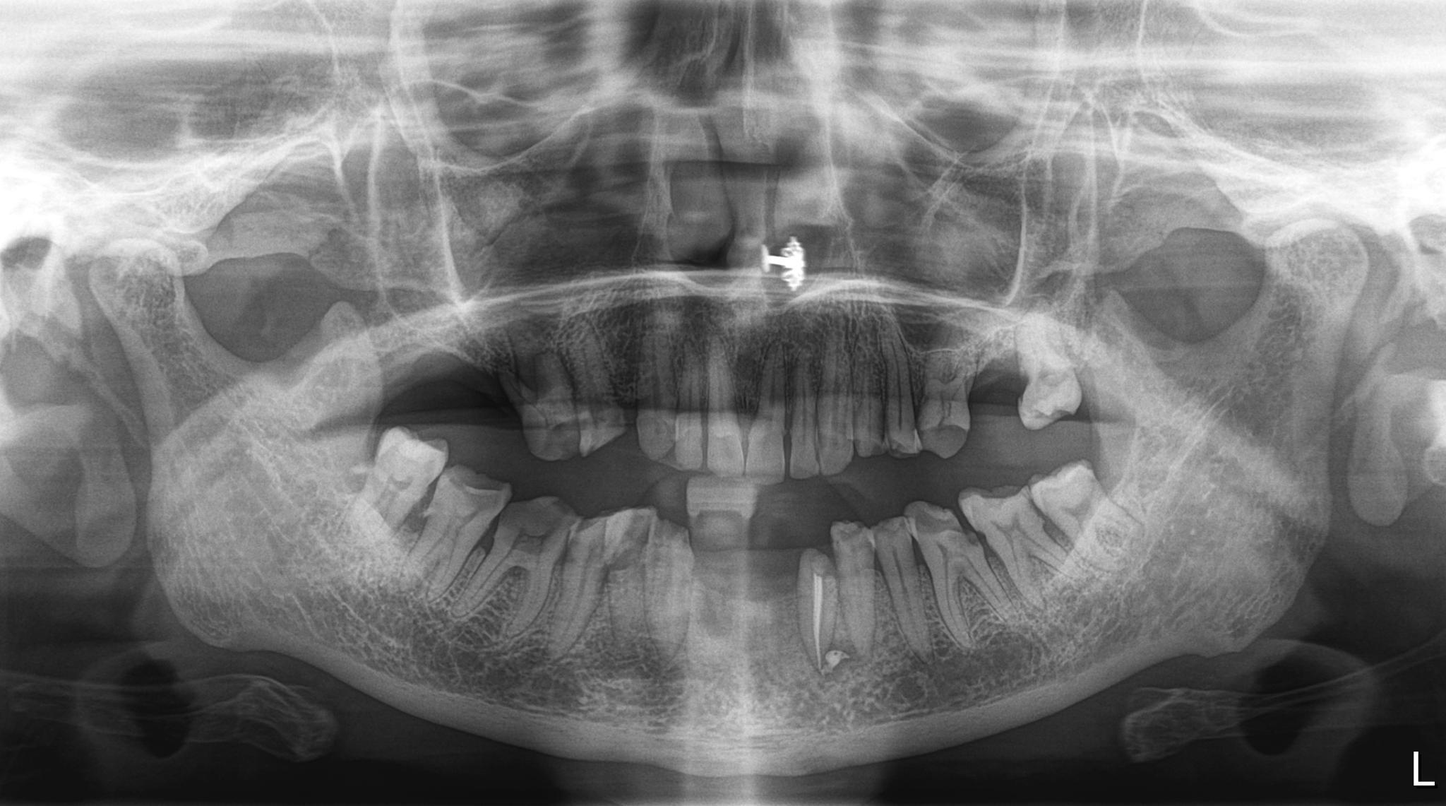Dental Caries: (930, 360, 971, 439), (921, 512, 969, 555), (579, 399, 621, 439), (507, 526, 557, 559), (607, 537, 646, 573), (470, 514, 501, 556), (964, 530, 989, 558)
Endodontically Treated Tooth: (801, 551, 848, 672)
Missing Tooth: (688, 521, 796, 679), (434, 350, 501, 439), (385, 358, 438, 434), (613, 339, 652, 436), (978, 358, 1026, 435)
Retained Root: (515, 348, 585, 467)
